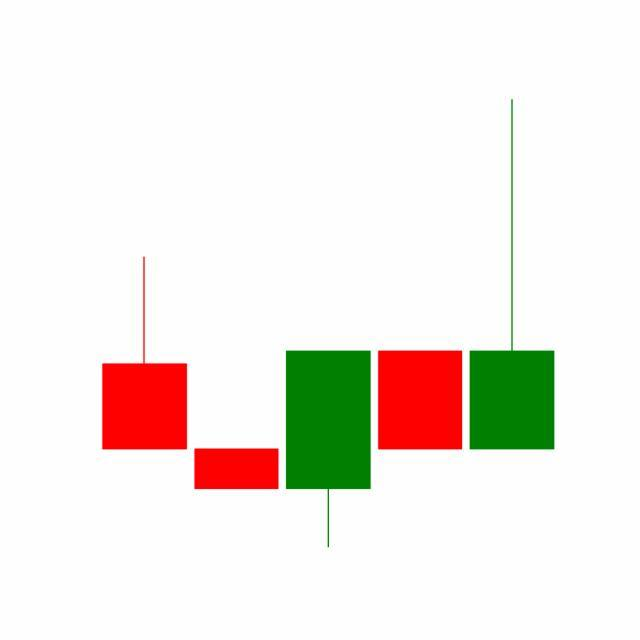Marubozu: (374, 349, 468, 451)
